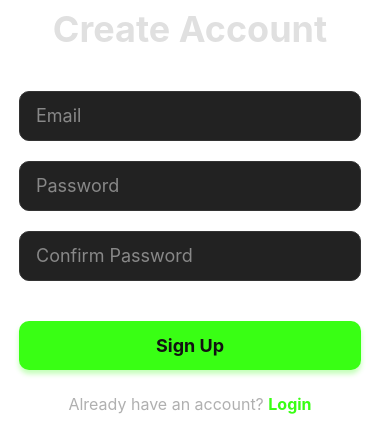
Test case: SignupScreen › shows loading indicator during signup
In the field with placeholder "Email": (190, 116) left=19, top=90, right=361, bottom=140, type "test@example.com"
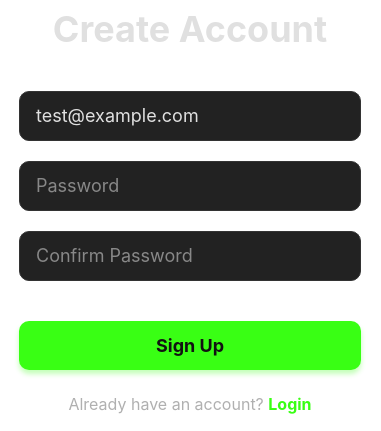
In the password field with placeholder "Password": (190, 186) left=19, top=160, right=361, bottom=210, type "password123"
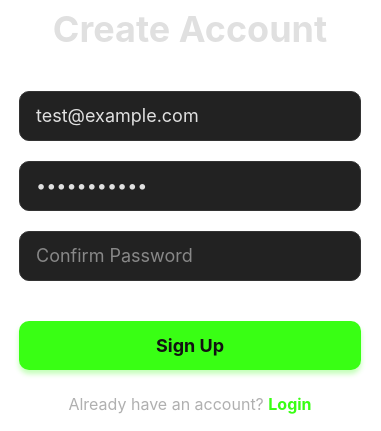
In the password field with placeholder "Confirm Password": (190, 256) left=19, top=230, right=361, bottom=280, type "password123"
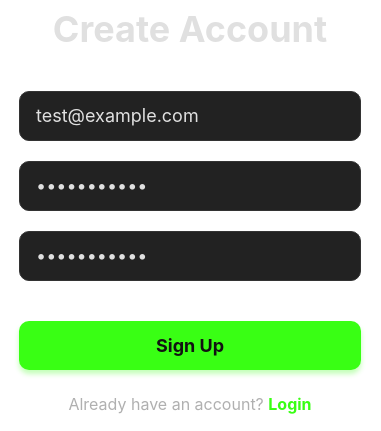
Click the text "Sign Up": (190, 345) left=156, top=334, right=224, bottom=356
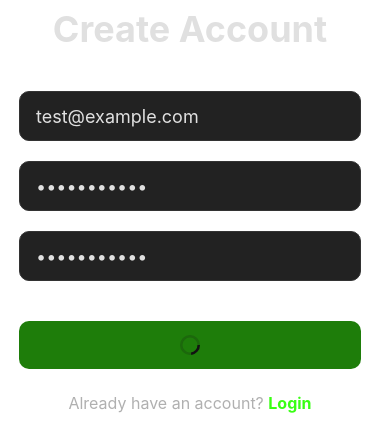
Check: the progress indicator with test id "signup-loading" is shown, box left=180, top=335, right=200, bottom=355
Check: the text "Sign Up" is gone
